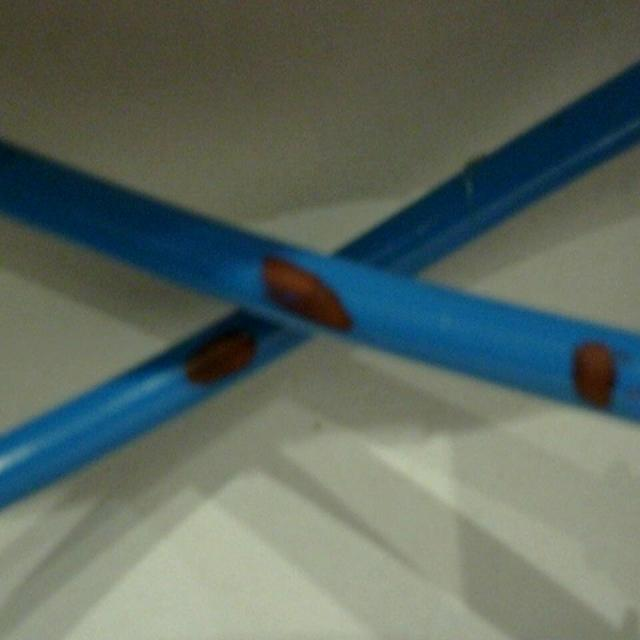hose_damage: (250, 247, 356, 336), (174, 317, 270, 400), (570, 330, 620, 417)
